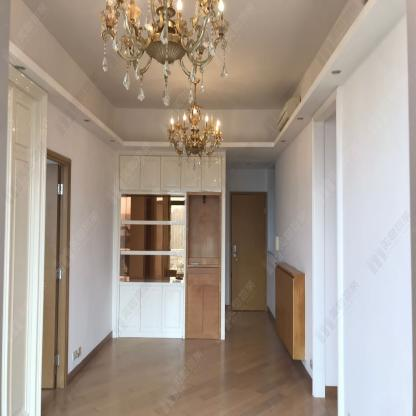Cupboard: (112, 145, 226, 339)
